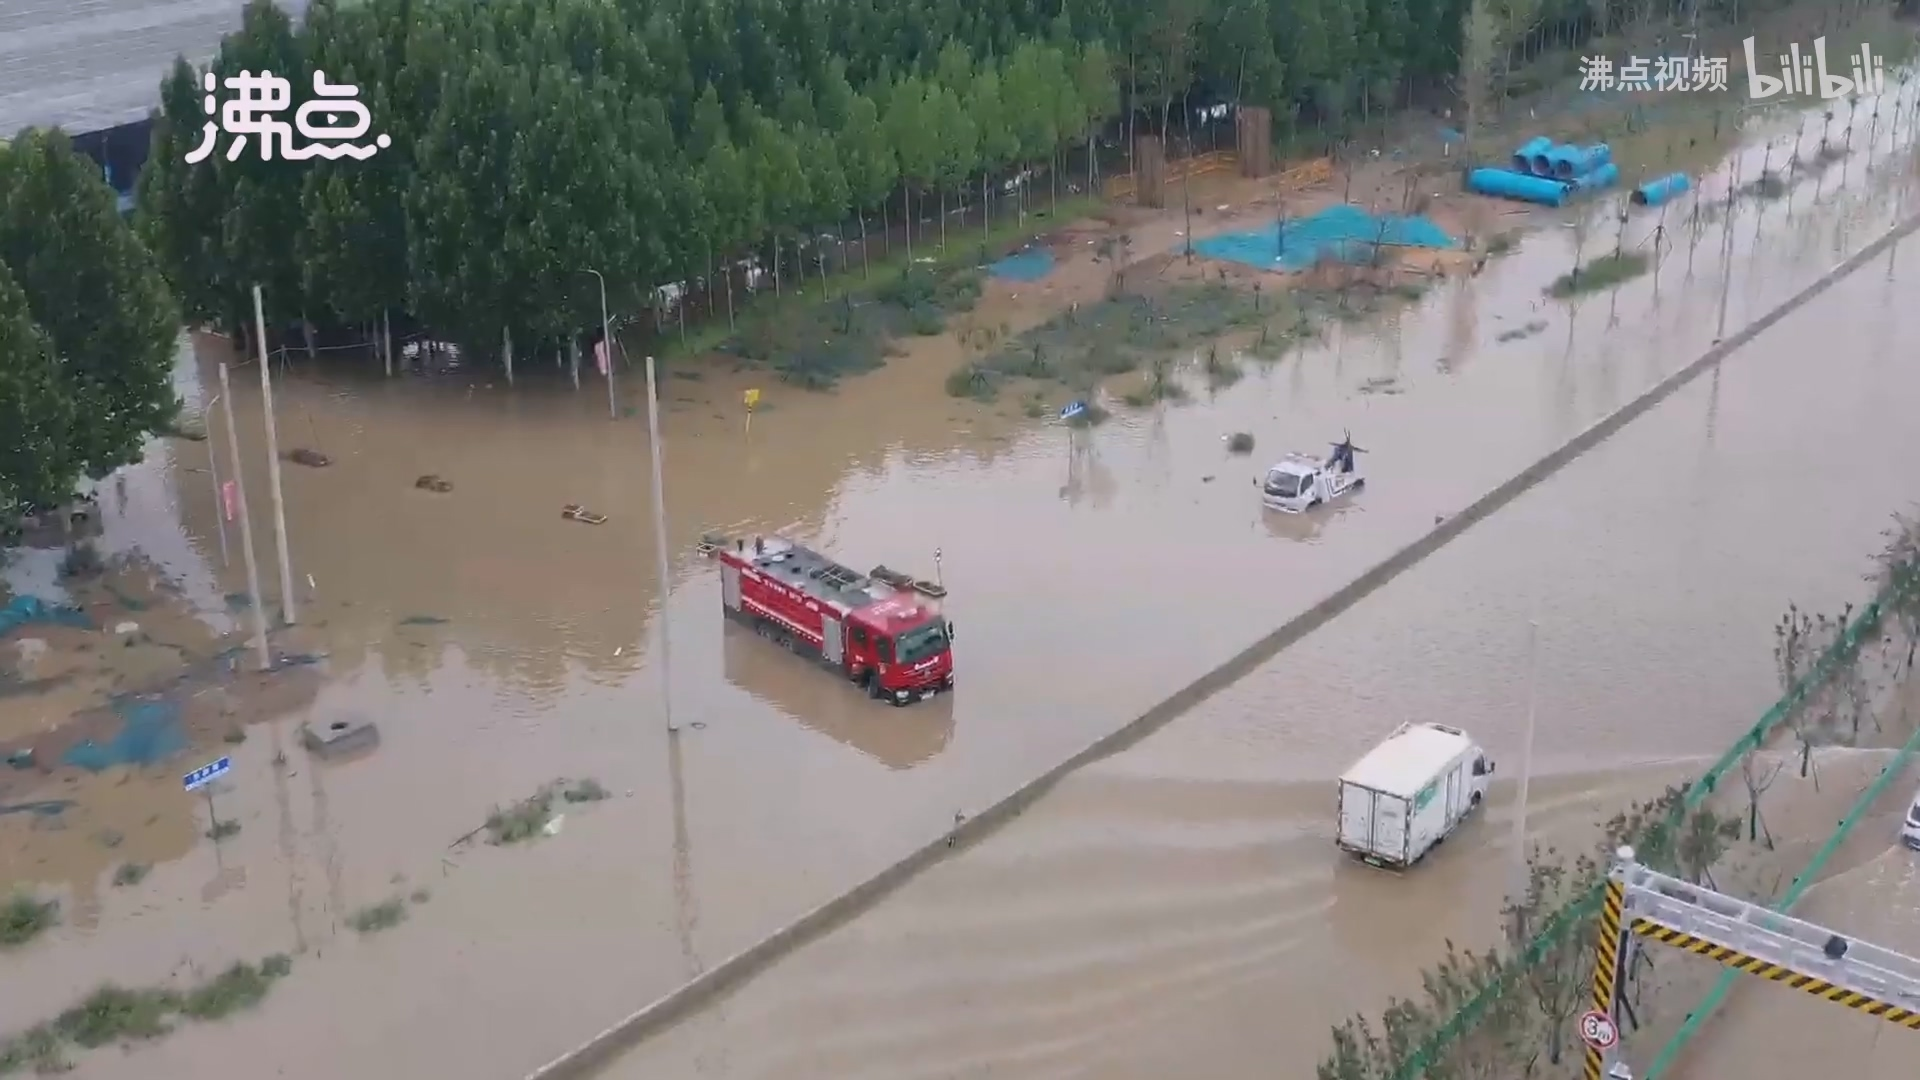puddle: (164, 335, 1539, 1080)
